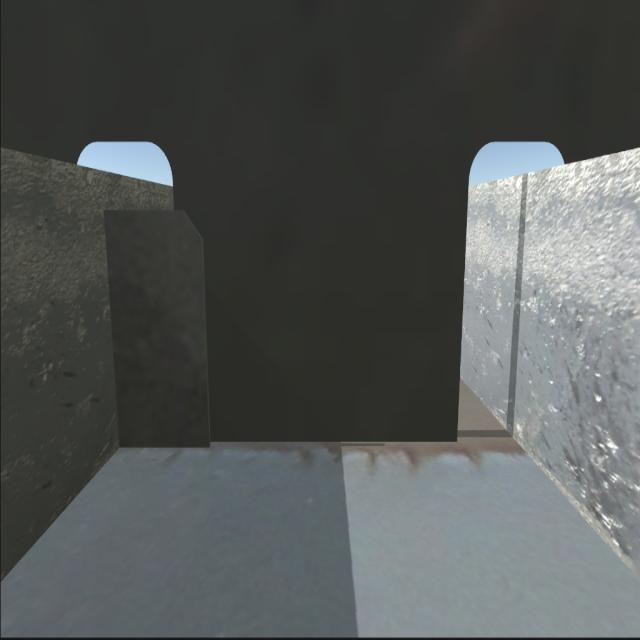fillet_yong_jeop_jang: (121, 437, 456, 448)
longi_yong_jeop_jang: (102, 220, 120, 444)
plate_CP03: (104, 202, 212, 449)
